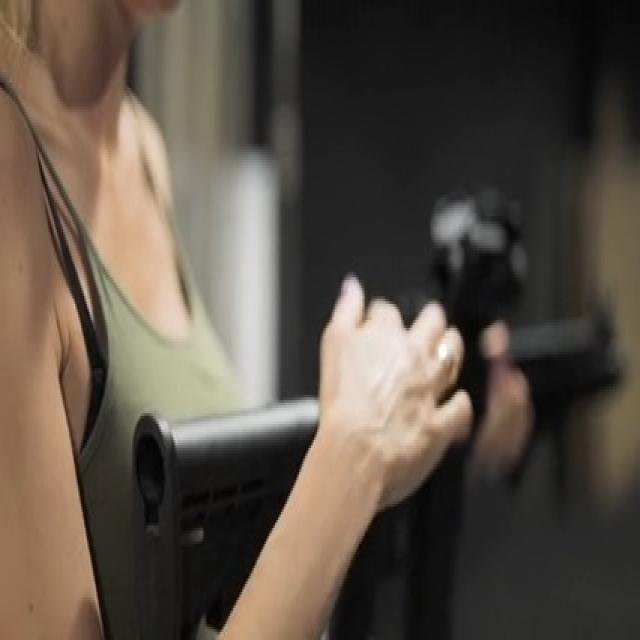Gun_Holder: (119, 163, 640, 640)
